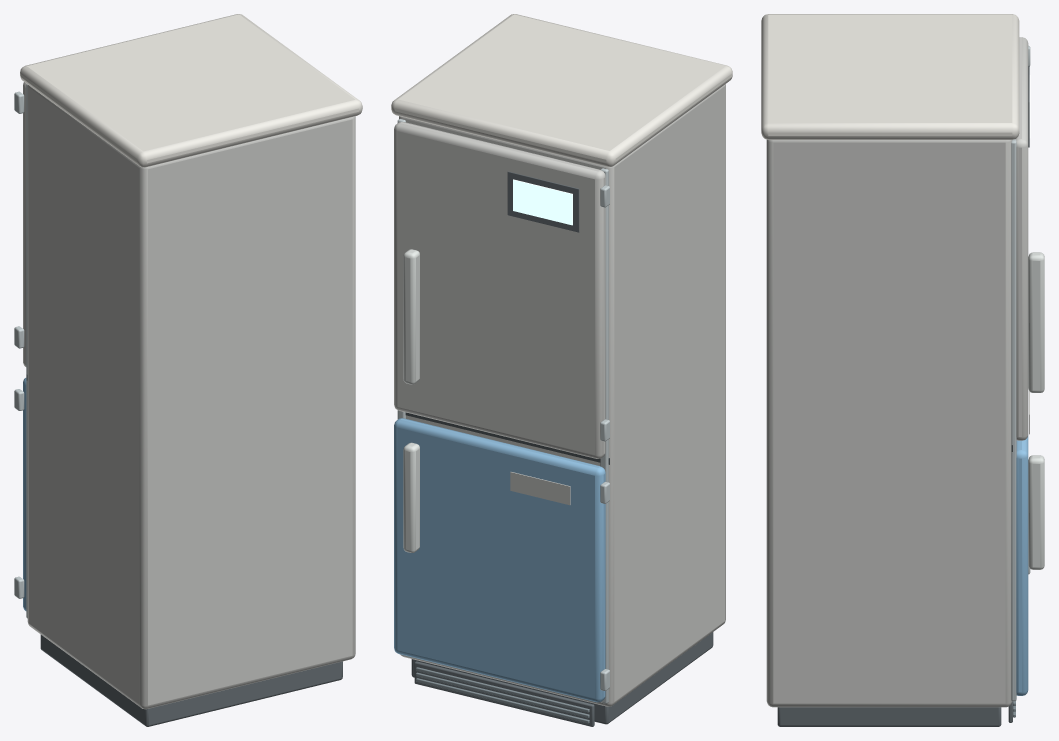
File: galley_freezer.glb
3 renders of one model, left to right at view 1: azimuth 30°, elevation 25°; view 2: azimuth 150°, elevation 25°; view 3: azimuth 270°, elevation 25°, orthographic. The views are drawn at different scales.
Parts seen in each view (by area): view 1: cabinet_body_white_painted, cabinet_cap_warm_shell, cabinet_plinth_graphite, fridge_door_white_painted, cabinet_rails_alloy, hinges_alloy, freezer_door_cool_blue; view 2: cabinet_body_white_painted, fridge_door_white_painted, freezer_door_cool_blue, cabinet_cap_warm_shell, base_vent_dark_alloy, cabinet_plinth_graphite, fridge_door_handle_satin_steel, cabinet_rails_alloy, fridge_door_screen_cyan, freezer_door_handle_satin_steel, fridge_door_frame_graphite, freezer_door_label_white_painted (+2 smaller); view 3: cabinet_body_white_painted, cabinet_cap_warm_shell, fridge_door_white_painted, cabinet_plinth_graphite, cabinet_rails_alloy, freezer_door_cool_blue, fridge_door_handle_satin_steel, freezer_door_handle_satin_steel.
Part boxes in pixels (box(x1,y1,x2,y2)): cabinet_body_white_painted: box(27, 85, 355, 709); cabinet_cap_warm_shell: box(20, 14, 362, 167); cabinet_plinth_graphite: box(40, 634, 342, 726); fridge_door_white_painted: box(23, 82, 26, 366); cabinet_rails_alloy: box(26, 84, 27, 618); hinges_alloy: box(14, 91, 24, 598); freezer_door_cool_blue: box(23, 378, 26, 610); cabinet_body_white_painted: box(399, 84, 725, 706); fridge_door_white_painted: box(394, 122, 605, 458); freezer_door_cool_blue: box(394, 418, 605, 702); cabinet_cap_warm_shell: box(391, 14, 732, 166); base_vent_dark_alloy: box(414, 661, 594, 726); cabinet_plinth_graphite: box(411, 632, 713, 724); fridge_door_handle_satin_steel: box(403, 249, 419, 384); cabinet_rails_alloy: box(397, 118, 608, 703); fridge_door_screen_cyan: box(513, 179, 572, 225); freezer_door_handle_satin_steel: box(403, 442, 419, 552); fridge_door_frame_graphite: box(507, 171, 579, 232); freezer_door_label_white_painted: box(510, 472, 570, 505); cabinet_body_white_painted: box(766, 139, 1012, 707); cabinet_cap_warm_shell: box(761, 14, 1019, 139); fridge_door_white_painted: box(1015, 37, 1028, 440); cabinet_plinth_graphite: box(777, 707, 1001, 726); cabinet_rails_alloy: box(1011, 139, 1016, 701); freezer_door_cool_blue: box(1016, 435, 1028, 695); fridge_door_handle_satin_steel: box(1028, 252, 1044, 392); freezer_door_handle_satin_steel: box(1028, 455, 1044, 569).
Size of the model in its own units: 0.75 by 1.86 by 0.785.
